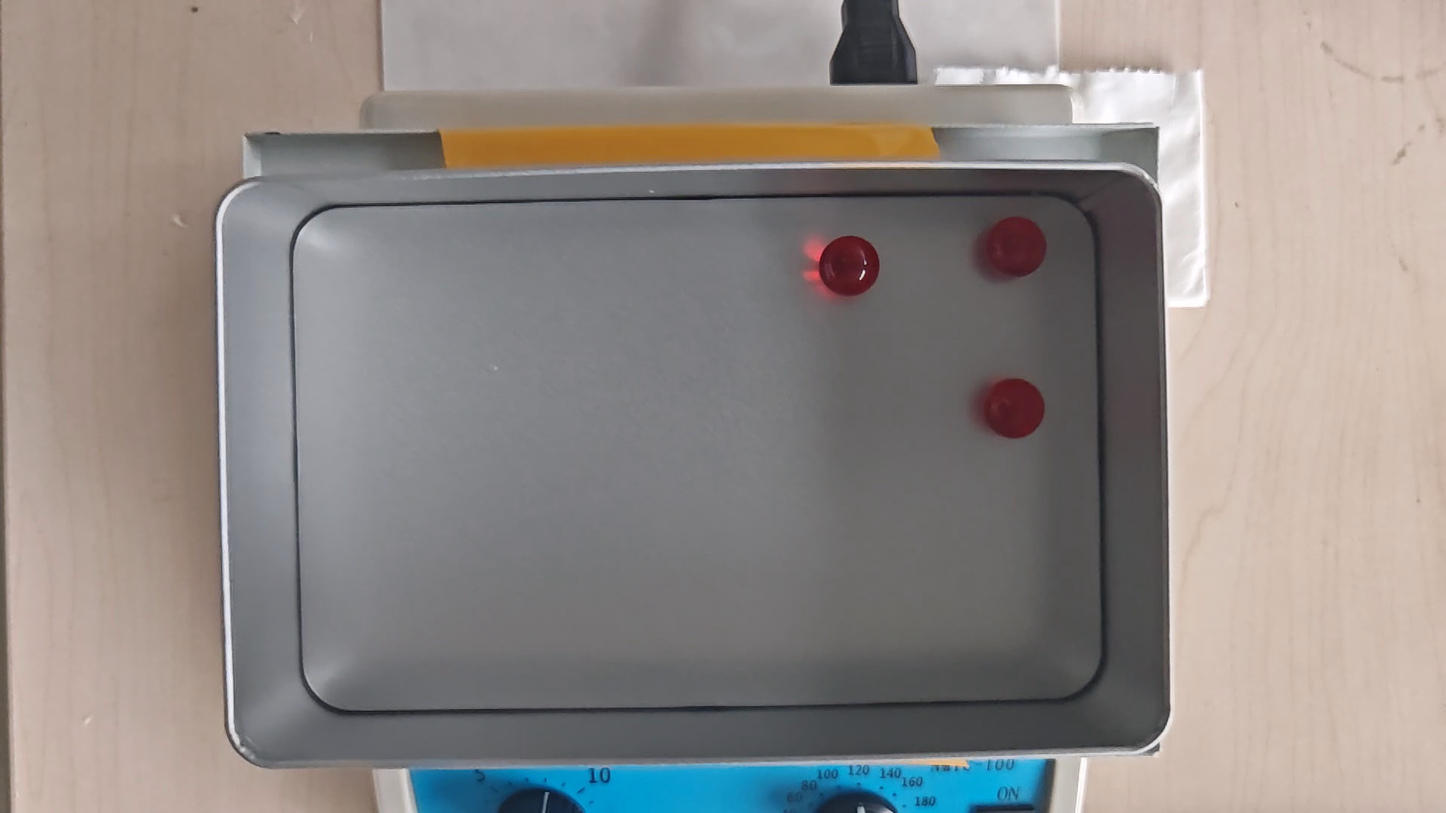ball: (984, 378, 1045, 440), (820, 236, 879, 297), (988, 217, 1047, 278)
container: (295, 195, 1101, 709)
